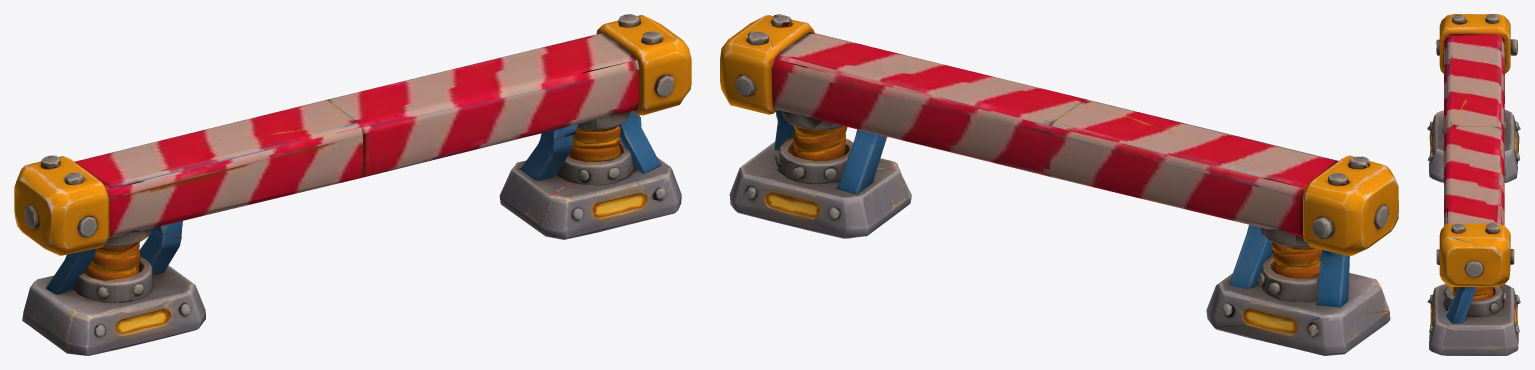
Rendered from candy_cane_bar.glb.
3 views of the same model, side by side, from view 1: azimuth 30°, elevation 25°; view 2: azimuth 150°, elevation 25°; view 3: azimuth 270°, elevation 25° (orthographic). The views are drawn at different scales.
Size of what is drawn, in the model's own units: 4.05 by 0.9997 by 0.6831.
Materials: 1 (1 with a texture image).
